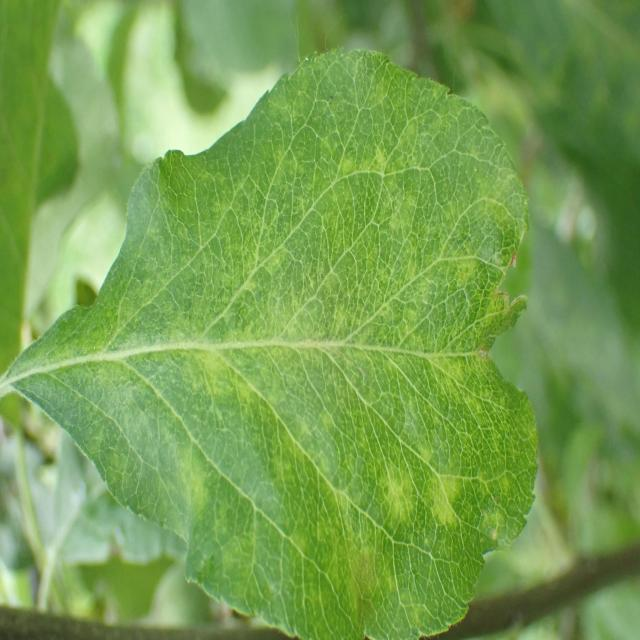scab: (56, 193, 508, 640)
